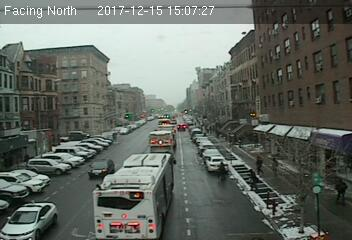bus: (92, 153, 175, 240)
car: (1, 201, 56, 240), (89, 159, 114, 178), (205, 155, 228, 172), (176, 123, 186, 132)
pedestrian: (247, 166, 260, 194), (269, 157, 279, 178), (254, 155, 263, 178)
truck: (148, 131, 173, 159)
